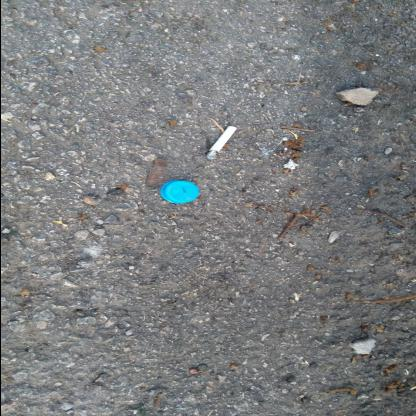plastik: (158, 180, 200, 204)
